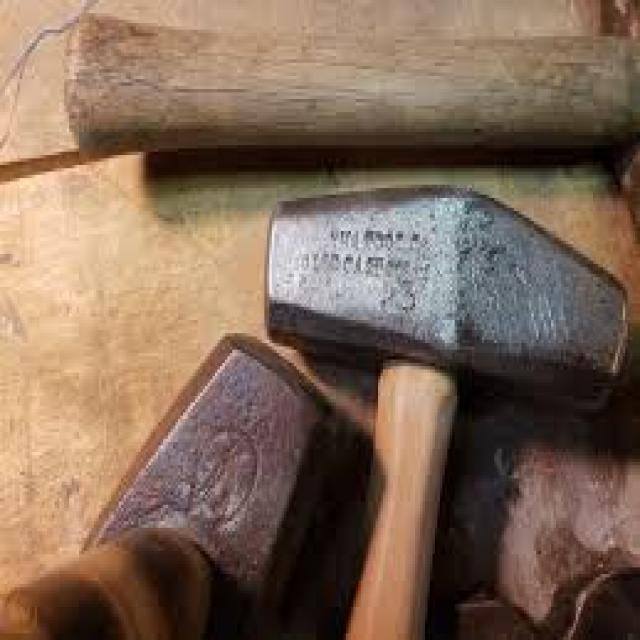hammer: (241, 181, 629, 640)
